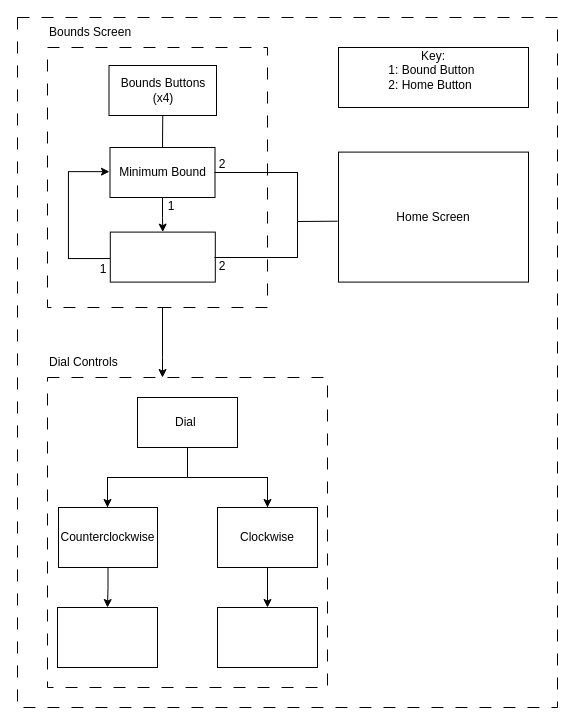
Some shapes in this 575 by 725 pixel diagram are drawn without their labels. The box of each missing label's shape, as (x1, y1, x2, y2) in pixels:
Bound Value +1: (216, 606, 318, 668)
Bound Value -1: (56, 606, 158, 668)
Maximum Bound: (109, 231, 215, 282)
